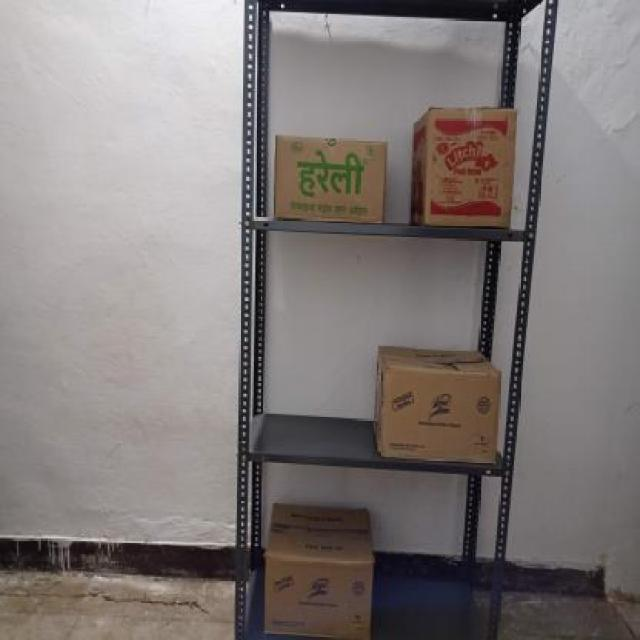box: (419, 107, 518, 226), (376, 371, 501, 453), (270, 137, 388, 220), (261, 557, 374, 635)
